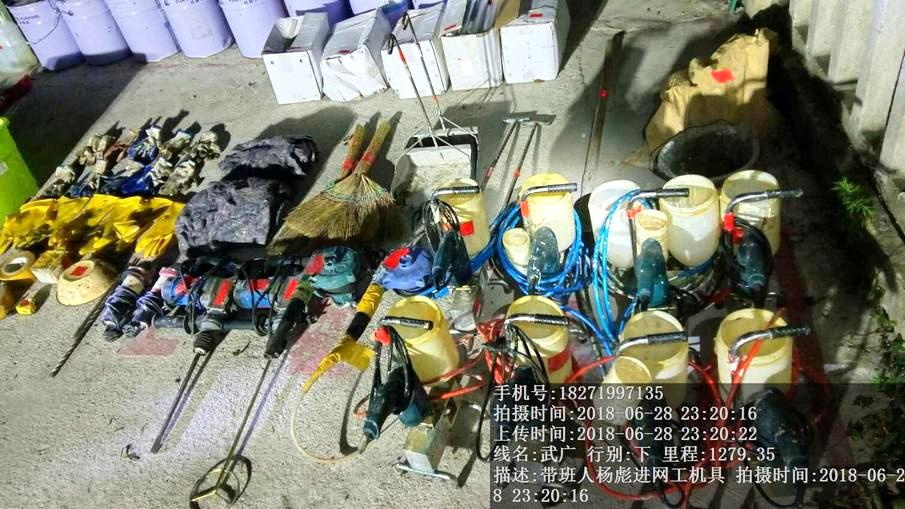DZ: (182, 272, 276, 376)
GFJ: (272, 249, 360, 370), (335, 259, 434, 356)
SB: (292, 121, 389, 239)
